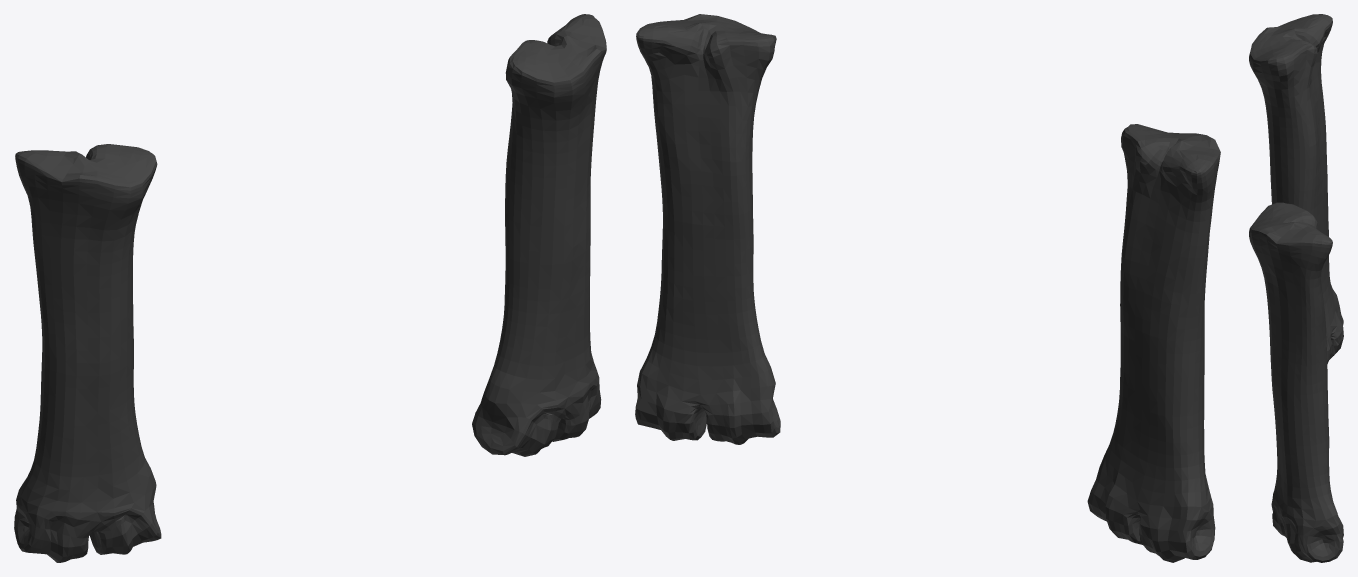
The model's file is b_metacarpal_L_LO.glb.
3 views of the same model, side by side, from view 1: azimuth 30°, elevation 25°; view 2: azimuth 150°, elevation 25°; view 3: azimuth 270°, elevation 25° (orthographic). The views are drawn at different scales.
Parts seen in each view (by area): view 1: b_metacarpal_L_LO; view 2: b_metacarpal_L_LO; view 3: b_metacarpal_L_LO.
Boxes of the visible parts, x1=… form: b_metacarpal_L_LO: x1=14, y1=14, x2=606, y2=562; b_metacarpal_L_LO: x1=635, y1=14, x2=1220, y2=562; b_metacarpal_L_LO: x1=1249, y1=14, x2=1343, y2=562.
Size of the model in its own units: 0.00329 by 0.00225 by 0.000576.
Materials: 1 (1 with a texture image).
